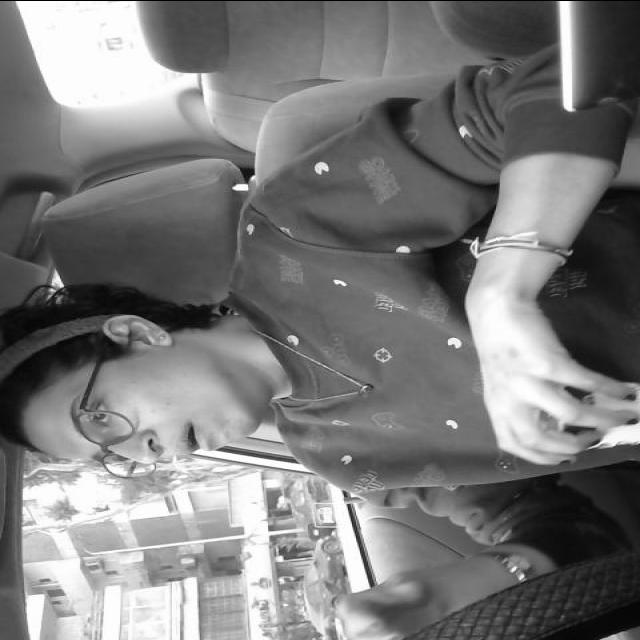drinking: (534, 371, 640, 452)
